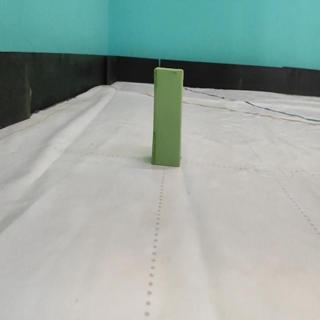greenbox: (149, 65, 184, 166)
